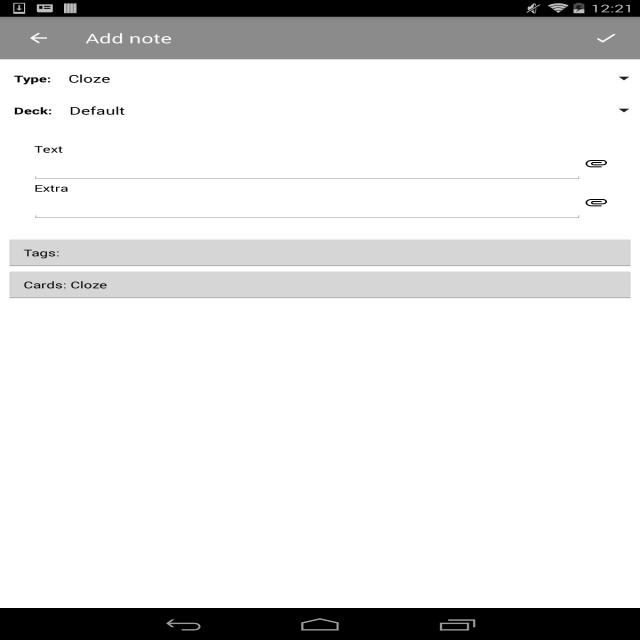EditText: (31, 155, 583, 182), (31, 194, 583, 221)
ImageButton: (9, 17, 68, 59), (584, 156, 609, 172), (584, 194, 609, 210)
Spinner: (60, 62, 634, 94), (61, 95, 634, 126)
TextView: (60, 71, 618, 86), (60, 103, 618, 118), (24, 246, 616, 259), (24, 278, 616, 291), (31, 143, 609, 155), (31, 182, 609, 194), (580, 22, 632, 54), (85, 29, 172, 47), (14, 104, 52, 117), (14, 72, 51, 85)
